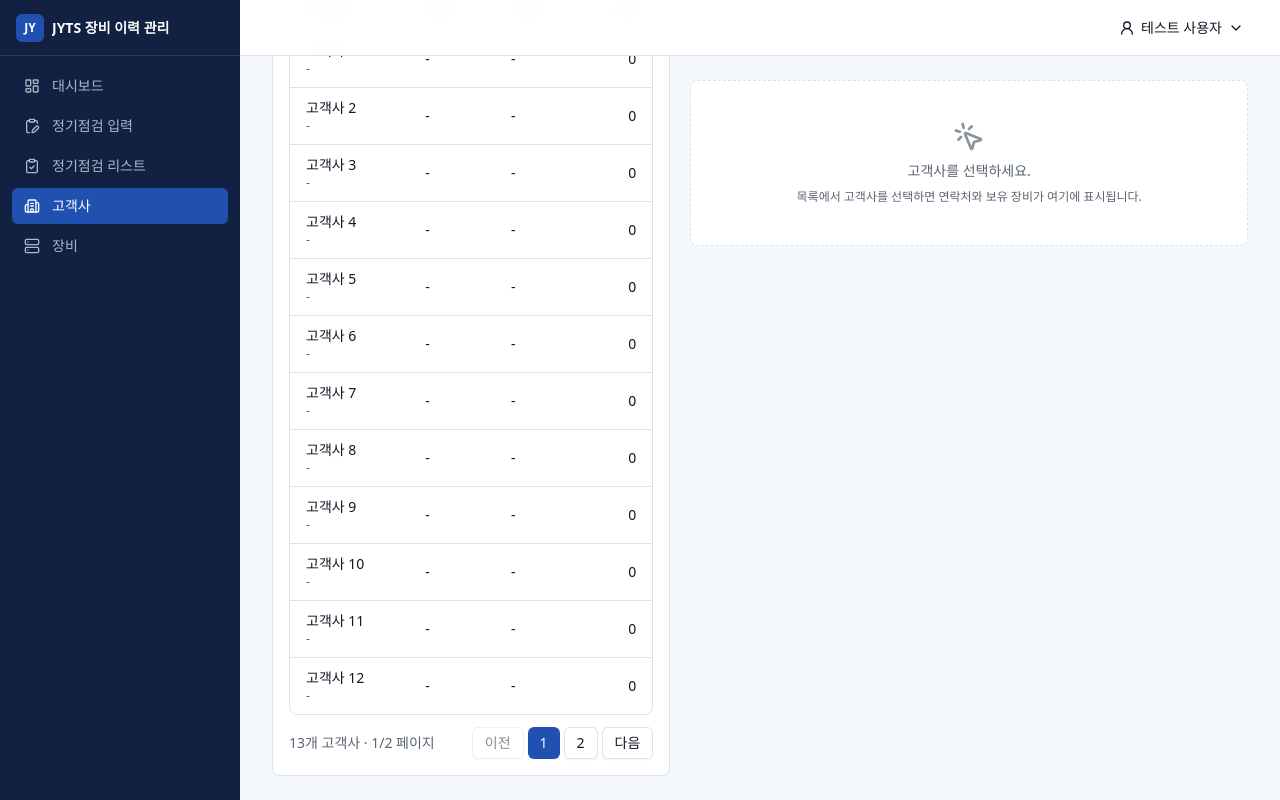
Scenario: organization page › searches contact and address fields and paginates twelve customer rows
(page scrolled)
Expected: the text "13개 고객사 · 1/2 페이지" is shown, [289,732,435,752]
Click the button "다음".
click(628, 742)  # box [602,726,653,758]
(page scrolled)
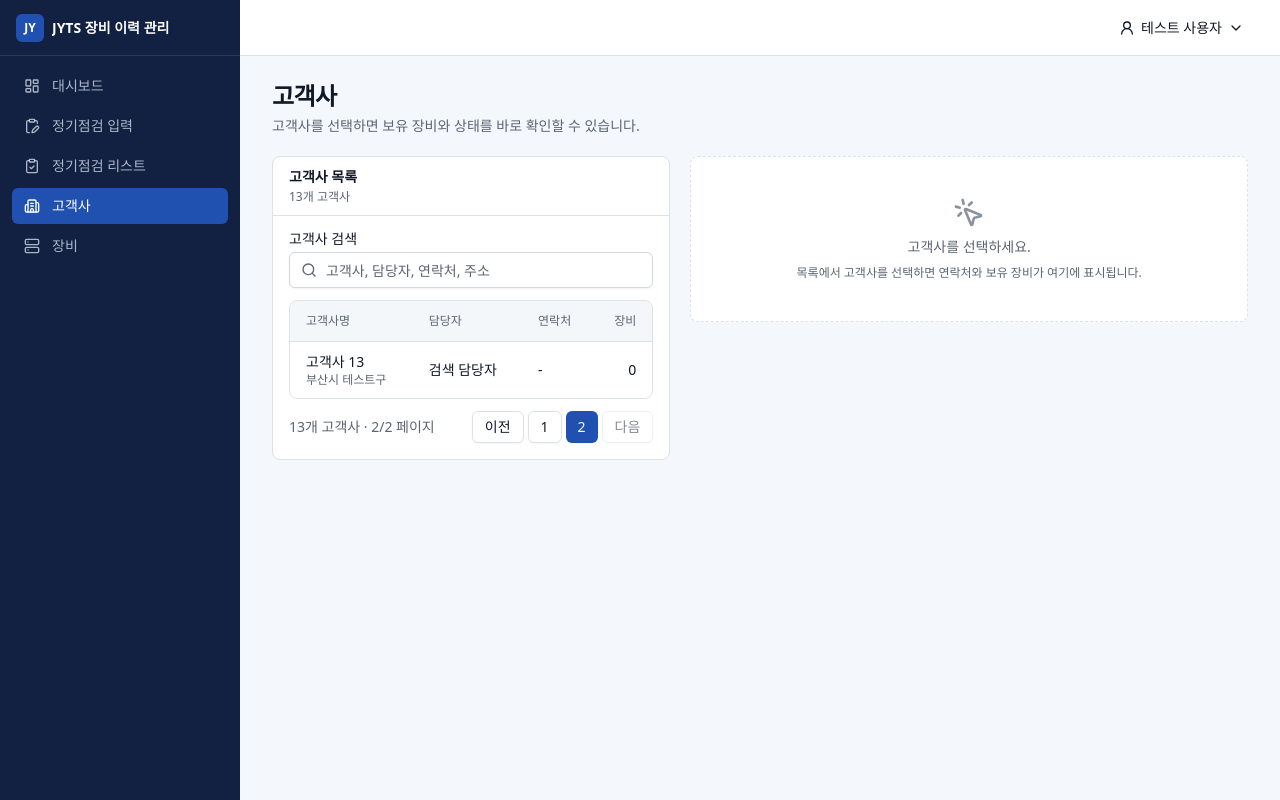
Expected: the text "13개 고객사 · 2/2 페이지" is shown, [289,416,435,436]
Expected: the text "검색 담당자" is shown, [413,341,522,398]
Type "부산시" into the search field labelled "고객사 검색".
click(471, 270); type("부산시")  # box [289,252,653,288]
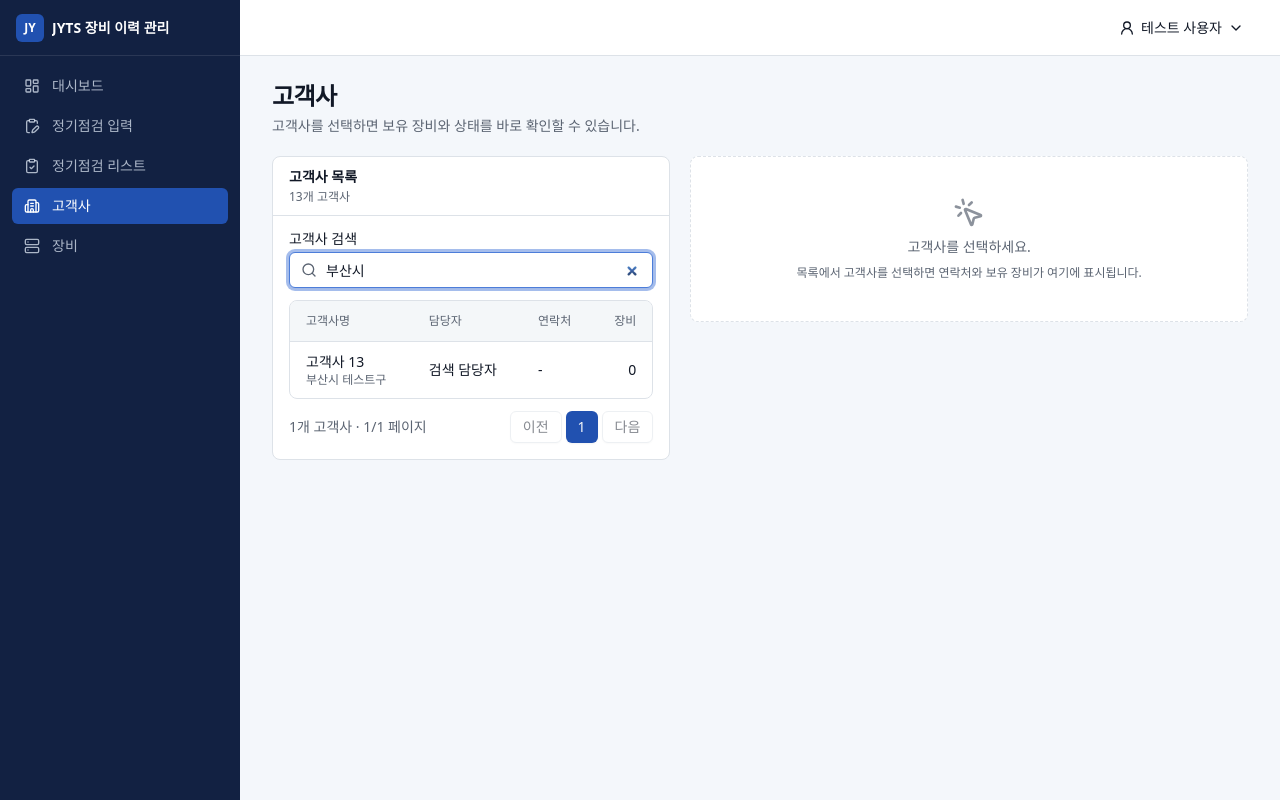
Expected: the text "부산시 테스트구" is shown, [306,372,397,388]
Expected: the text "1개 고객사 · 1/1 페이지" is shown, [289,416,427,436]
